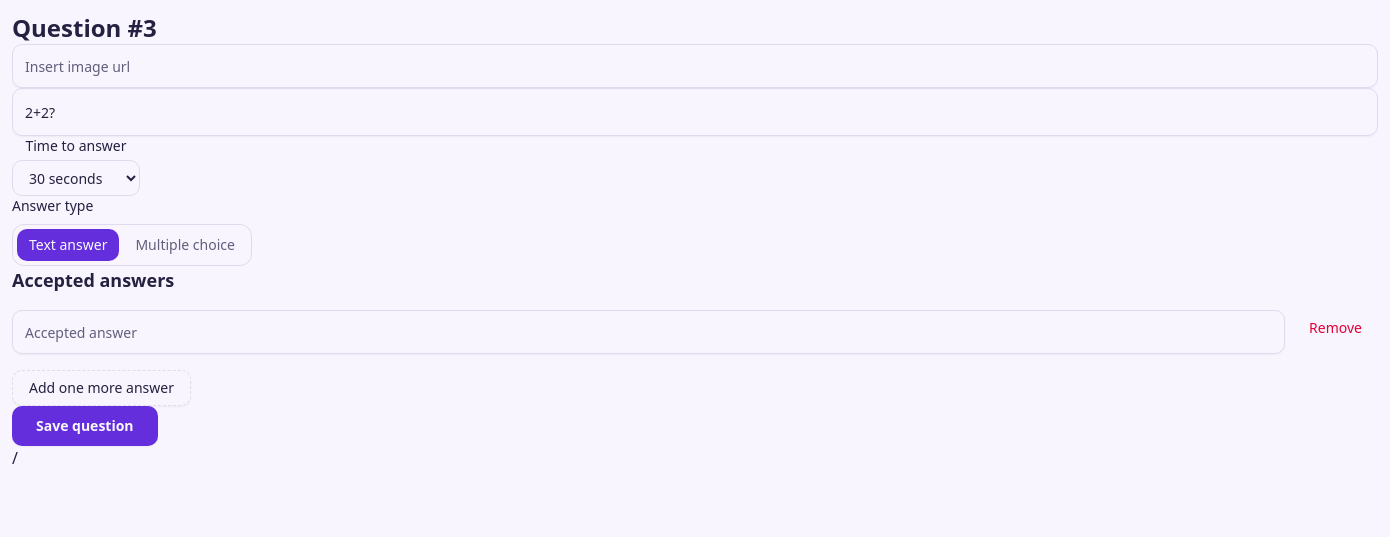
Test: EditQuestionForm › switches the type without a confirm when the other set is empty (D-12)
Expected: the field with test id "question-text-input" holds "2+2?", [12,88,1378,136]
# a new question has only the empty placeholder answer — the switch is direct
Click the button with test id "choice-tab": (185, 245) [123,229,247,261]
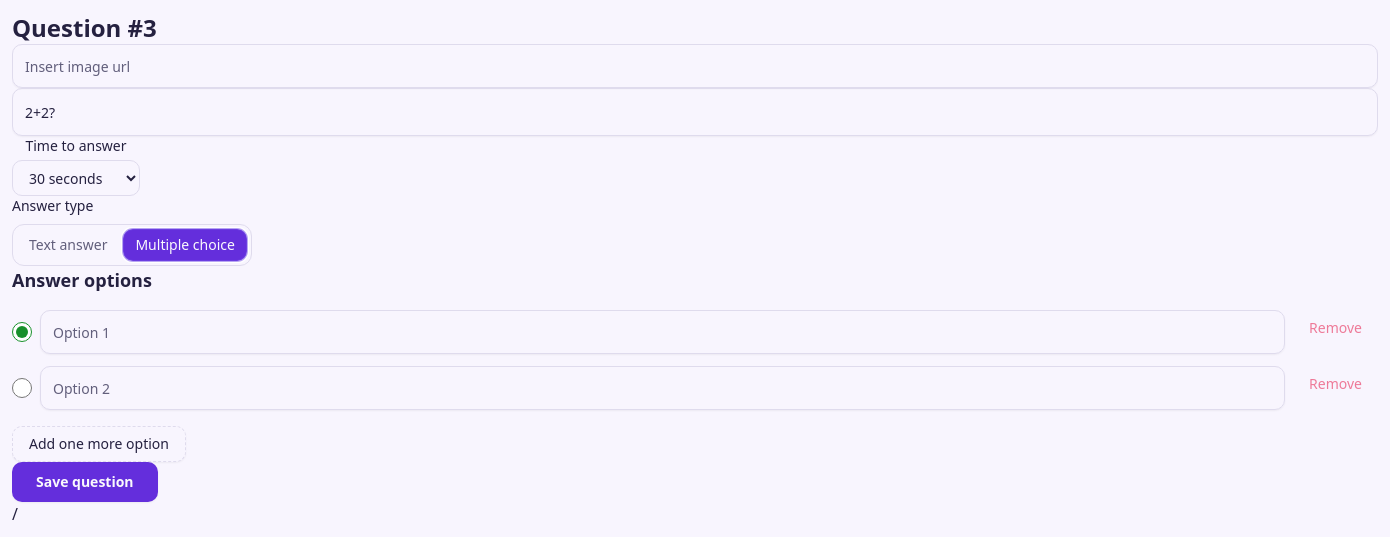
Expected: the list with test id "answer-options-list" is shown, [12,310,1378,410]
